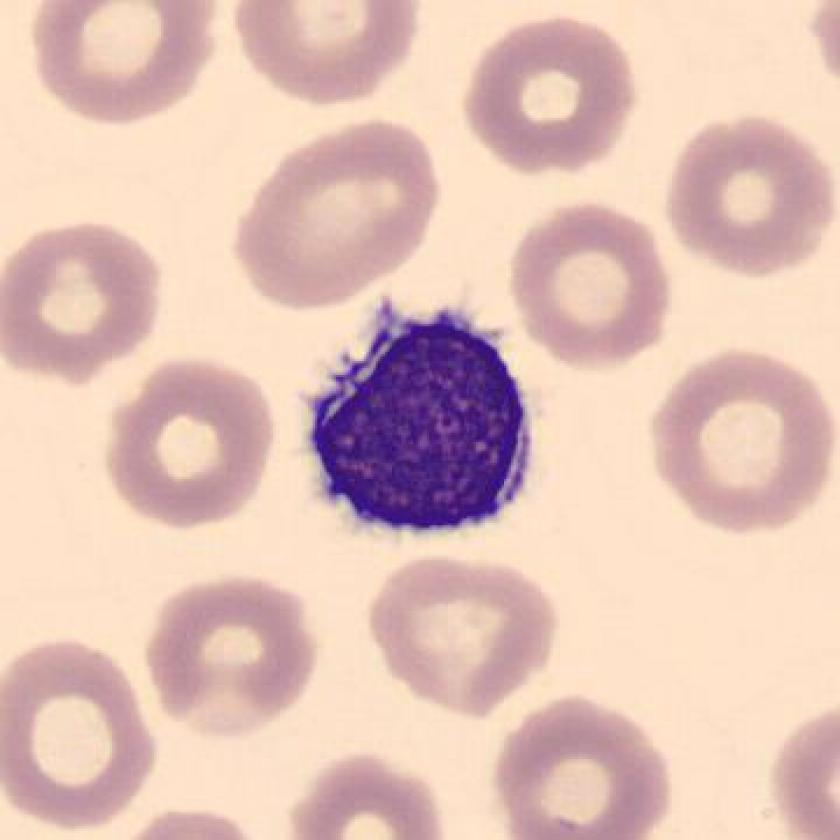lymphocyte: (295, 293, 556, 557)
